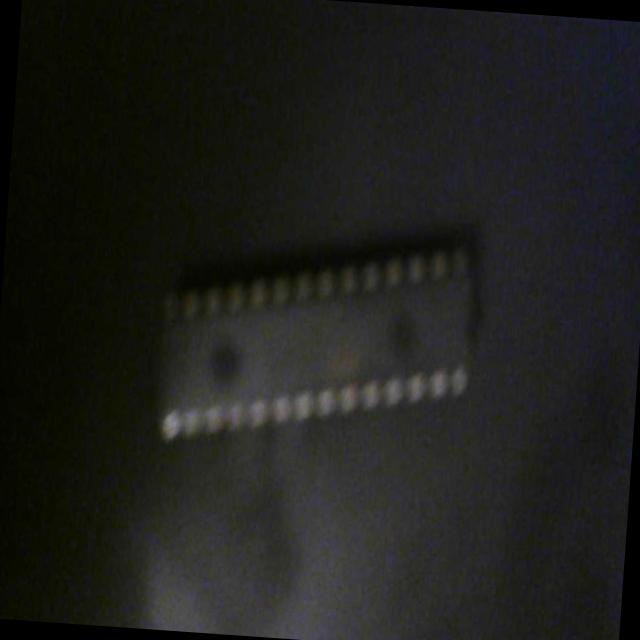atmega: (146, 196, 490, 470)
